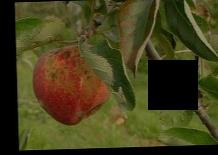rotten apple: (28, 41, 113, 126)
